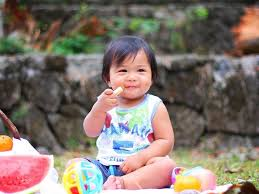child: (77, 33, 180, 191)
